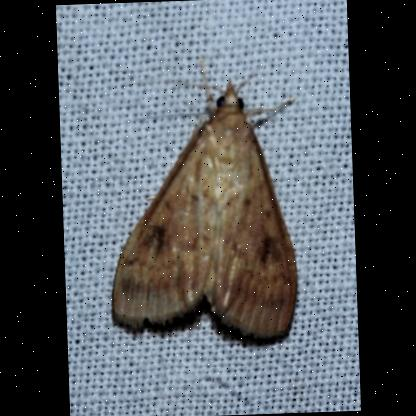Asian Corn Borer Moth: (100, 48, 308, 356)
